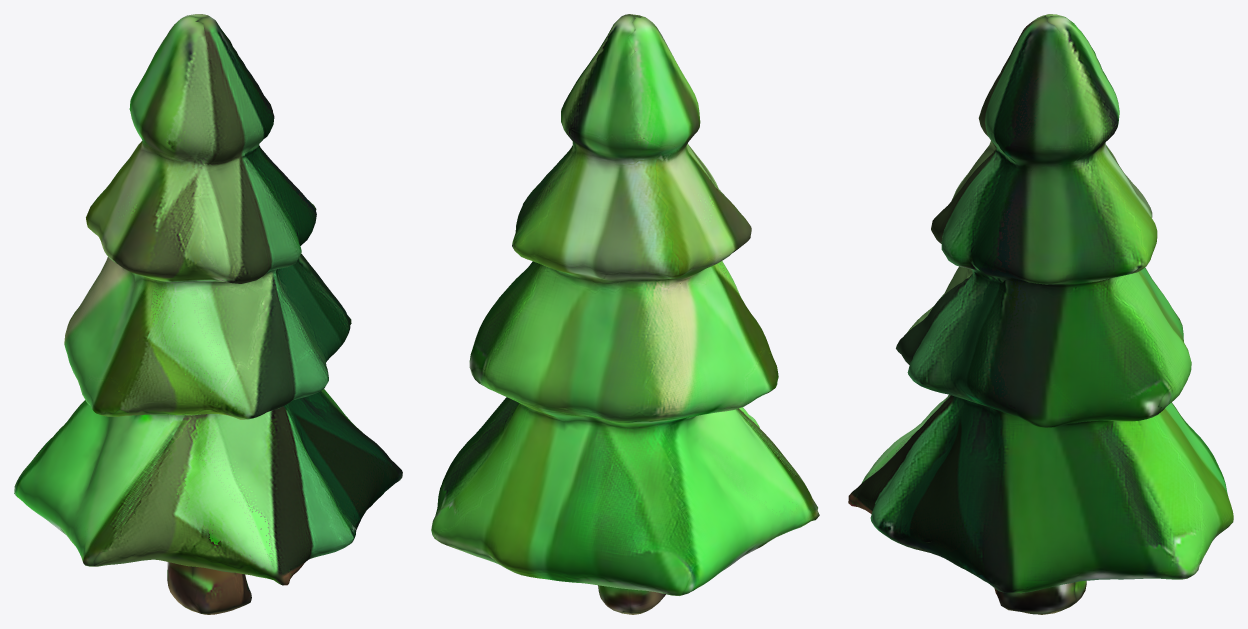
3 renders of one model, left to right at view 1: azimuth 30°, elevation 25°; view 2: azimuth 150°, elevation 25°; view 3: azimuth 270°, elevation 25°, orthographic.
Visible parts, largest first — view 1: model.obj; view 2: model.obj; view 3: model.obj.
Boxes of the visible parts, <box> form: model.obj: <box>14,14,402,614</box>; model.obj: <box>431,14,819,614</box>; model.obj: <box>848,14,1233,614</box>.
Bounding box in the file's own units: 0.6521 × 1.12 × 0.6592.
1 material, 1 textured.
